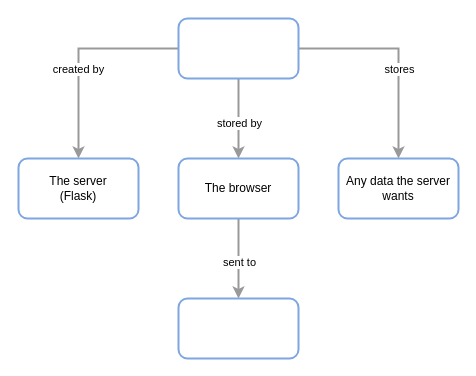
Image size: 476x376. Some labels were removed from this diagram. The shapes that lost their labels are listed below. From the top down, each one's centre as x and y in pixels, then its label:
At [238,48]: "Cookie".
At [238,328]: "The server in every request".
